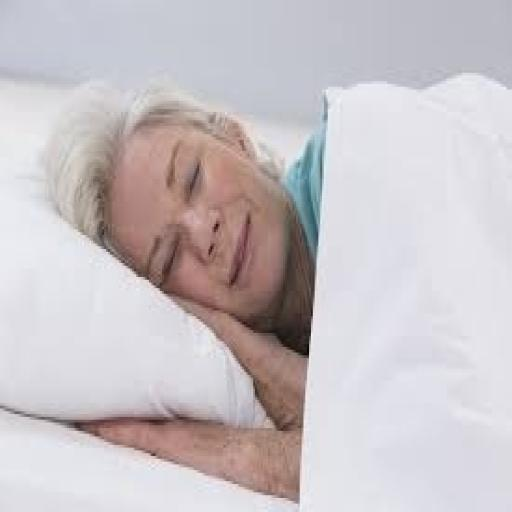sleeping: (39, 64, 510, 506)
